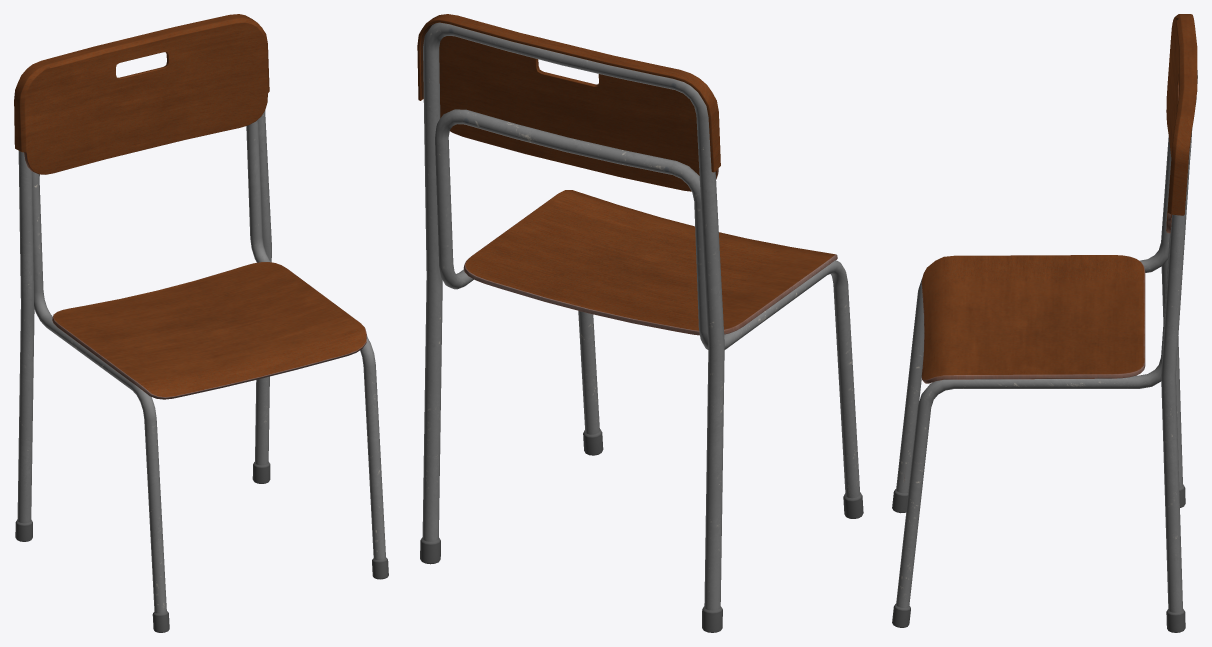
The model's file is Chair_02.FBX.
3 renders of one model, left to right at view 1: azimuth 30°, elevation 25°; view 2: azimuth 150°, elevation 25°; view 3: azimuth 270°, elevation 25°, orthographic. The views are drawn at different scales.
Parts seen in each view (by area): view 1: Chair_02; view 2: Chair_02; view 3: Chair_02.
Boxes of the visible parts, box(x1,y1,x2,y2) form: Chair_02: box(14, 14, 388, 632); Chair_02: box(417, 14, 863, 632); Chair_02: box(892, 14, 1197, 632).
Bounding box in the file's own units: 46.71 × 82.63 × 45.66.
